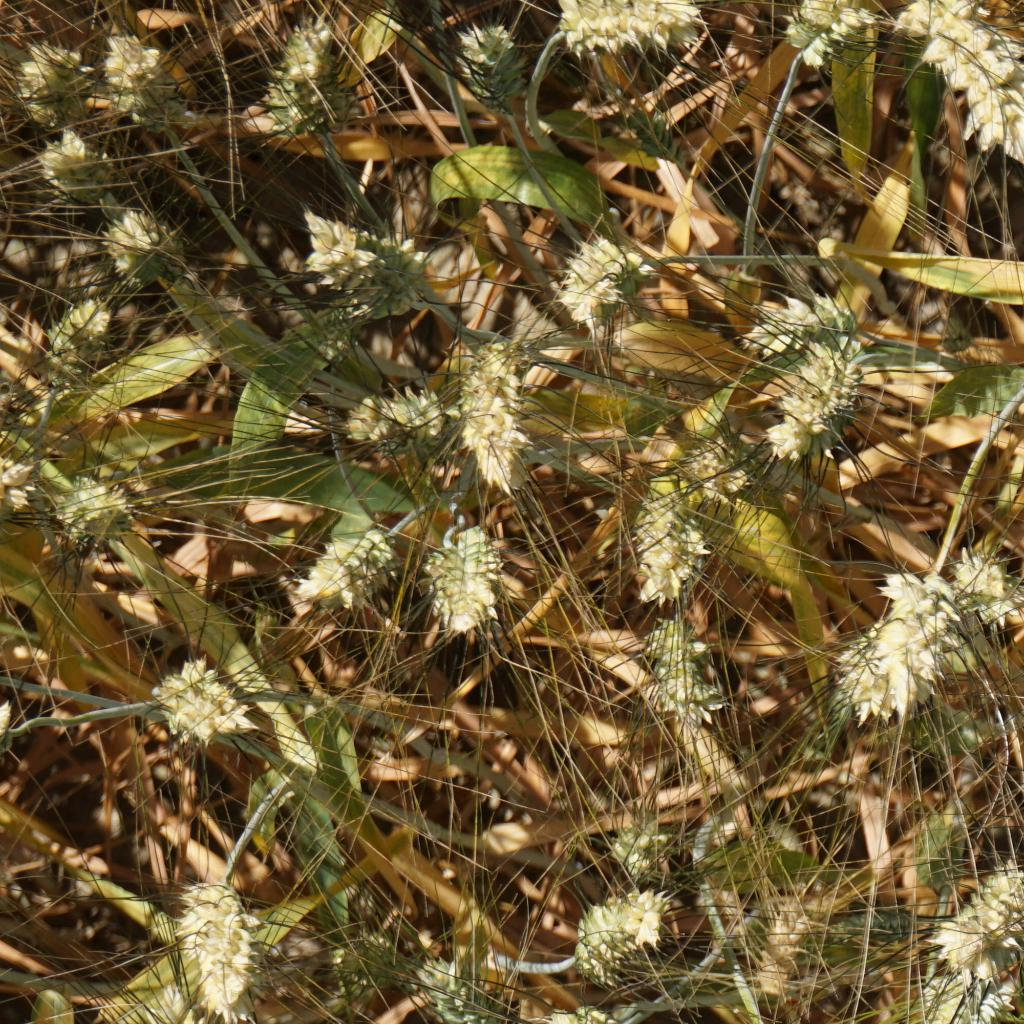0-0: (888, 0, 1024, 164), (444, 325, 559, 491), (256, 10, 384, 144), (619, 451, 721, 610), (757, 344, 883, 463), (294, 206, 435, 309), (177, 879, 275, 1024), (0, 29, 120, 145), (858, 570, 952, 713), (92, 25, 197, 147), (540, 226, 647, 339), (557, 889, 675, 990), (565, 0, 728, 71), (636, 617, 726, 745), (414, 525, 517, 636), (96, 201, 208, 299), (732, 890, 821, 1011), (736, 280, 877, 354), (32, 280, 124, 386), (337, 376, 446, 463), (608, 86, 709, 177), (448, 19, 544, 109), (301, 515, 391, 608), (154, 653, 243, 747), (666, 425, 764, 506), (322, 912, 416, 996), (31, 122, 122, 206), (928, 866, 1024, 945), (408, 952, 508, 1024), (60, 465, 154, 540), (783, 0, 870, 73), (960, 550, 1024, 630), (918, 965, 1003, 1024), (133, 982, 247, 1024), (310, 302, 367, 377), (612, 815, 668, 886), (491, 1001, 616, 1024)
